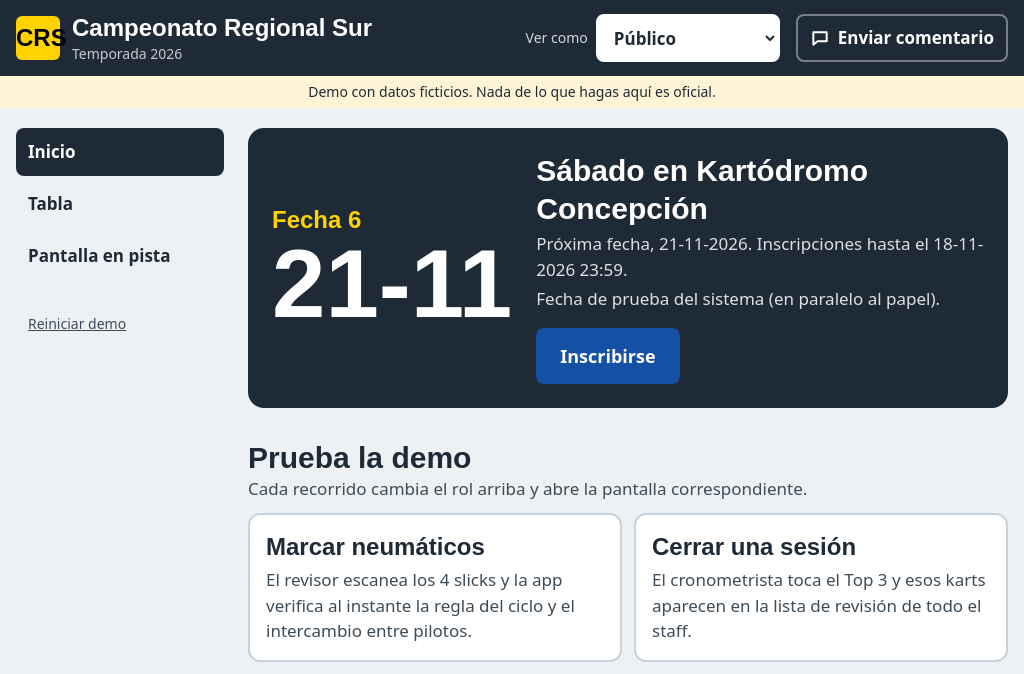
acciones ocultas a roles sin el permiso (QA, SPEC 4.2 y 11.1) › I-6: el piloto no puede abrir la lista interna de revisión (donde se ve el motivo)
Select "Piloto" in the dropdown labelled "Ver como". click: (688, 38)
box: [596,14,780,62]
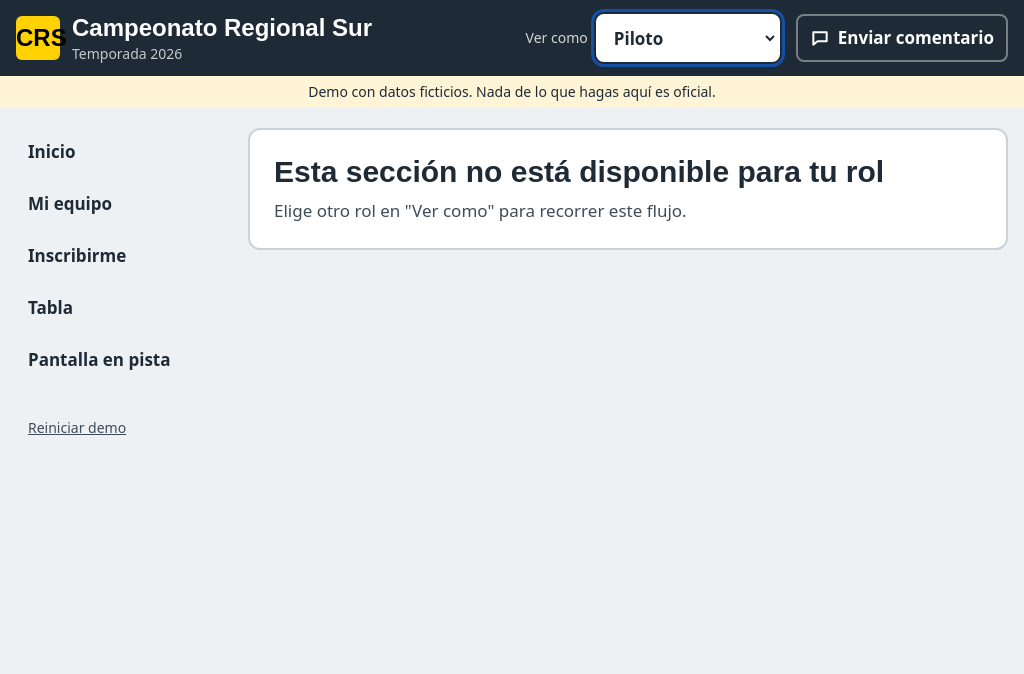
Expected: the heading "Esta sección no está disponible para tu rol" is shown, [274,154,982,190]
